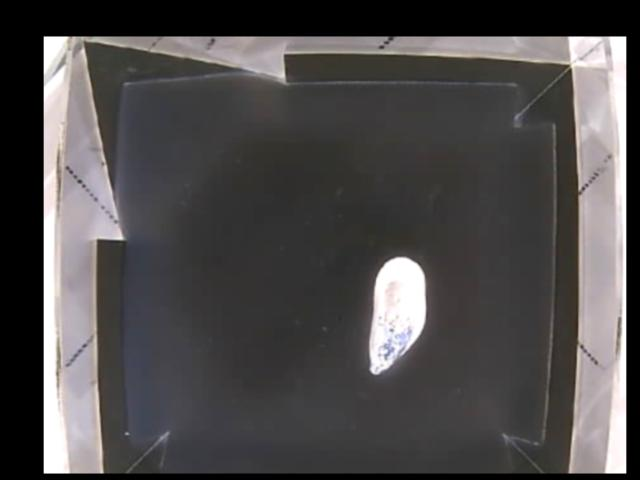Shell: (363, 256, 426, 374)
